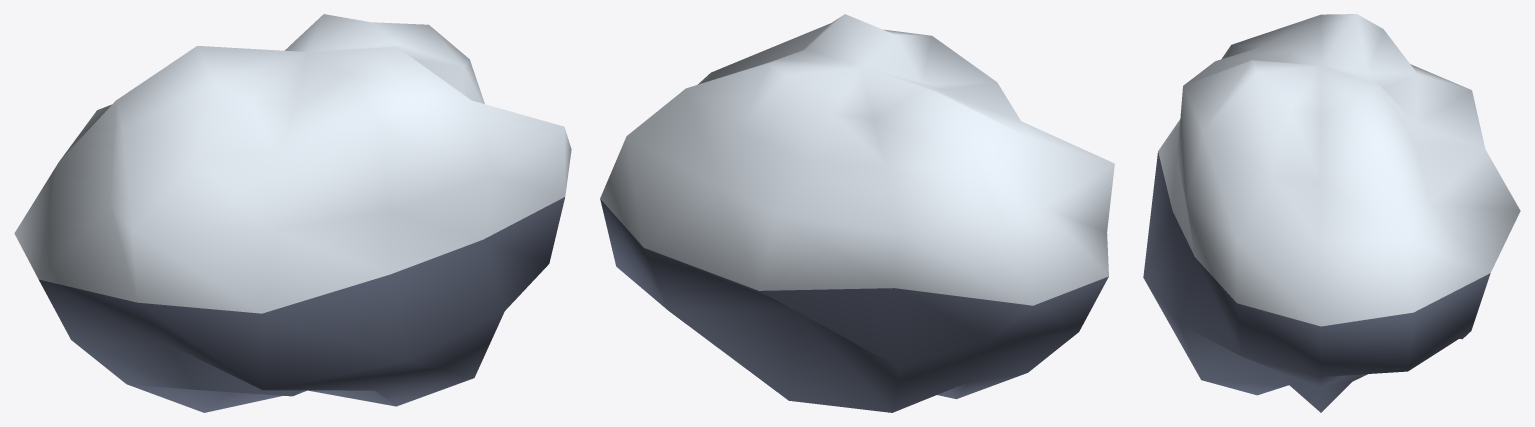
File: Rock2.fbx
3 views of the same model, side by side, from view 1: azimuth 30°, elevation 25°; view 2: azimuth 150°, elevation 25°; view 3: azimuth 270°, elevation 25° (orthographic). The views are drawn at different scales.
Parts seen in each view (by area): view 1: Rock; view 2: Rock; view 3: Rock.
Part boxes in pixels (x1,y1,x2,y2): Rock: [14, 14, 571, 412]; Rock: [600, 14, 1114, 412]; Rock: [1143, 14, 1520, 412].
Size of the model in its own units: 3.95 by 2.55 by 2.7.
